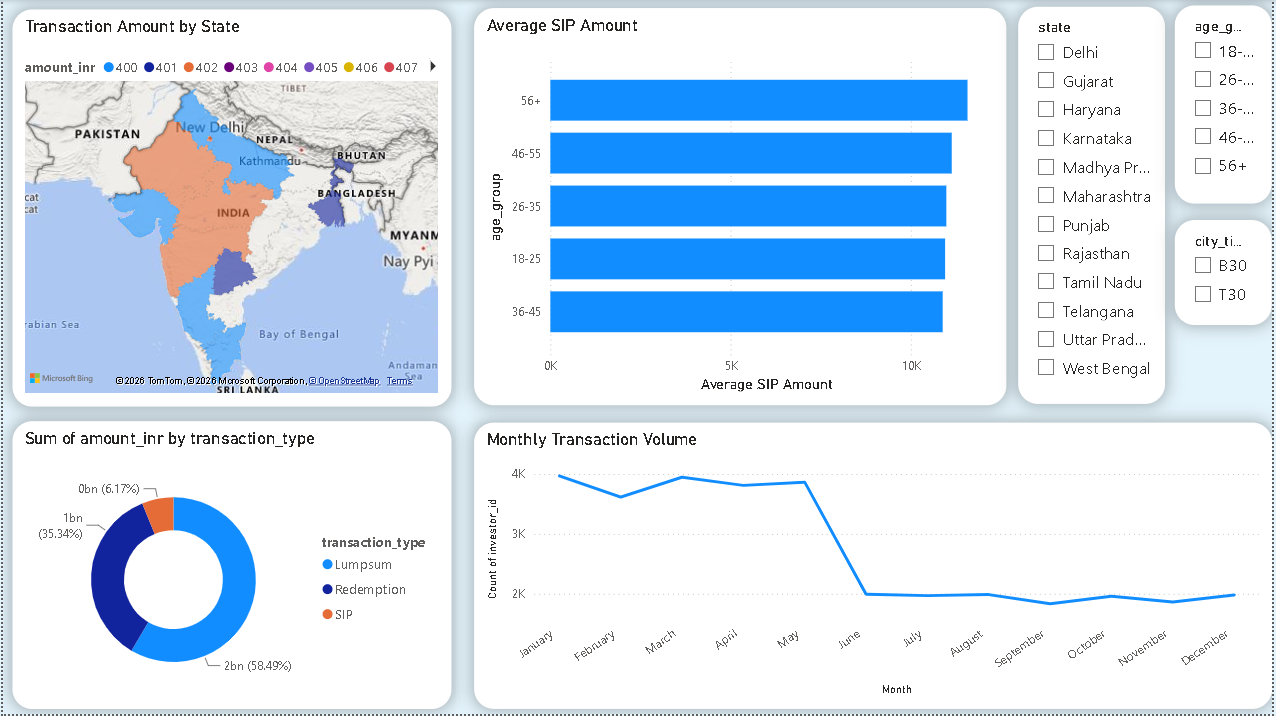

The dashboard page shown, as its layout file describes it:
{"tool":"powerbi","page":{"name":"Investor Analytics","canvas":[1280,720],"ordinal":2},"visuals":[{"type":"filledMap","title":"Transaction Amount by State","fields":{"Category":["clean_transactions.state"],"Series":["clean_transactions.amount_inr"]},"box":[9.5,9.5,442.7,400.5],"z":0},{"type":"donutChart","fields":{"Category":["08_investor_transactions.transaction_type"],"Y":["Sum(08_investor_transactions.amount_inr)"]},"box":[9.5,425,442.7,290.1],"z":1000},{"type":"clusteredBarChart","title":"Average SIP Amount","fields":{"Category":["08_investor_transactions.age_group"],"Y":["08_investor_transactions.Average SIP Amount"]},"box":[475.4,8.2,536.7,400.5],"z":2000},{"type":"lineChart","title":"Monthly Transaction Volume","fields":{"Category":["08_investor_transactions.transaction_date.Variation.Date Hierarchy.Month"],"Y":["CountNonNull(08_investor_transactions.investor_id)"]},"box":[475,426.4,805,288.8],"z":3000},{"type":"slicer","fields":{"Values":["08_investor_transactions.state"]},"box":[1024.3,6.8,148.5,400.5],"z":4000},{"type":"slicer","fields":{"Values":["08_investor_transactions.age_group"]},"box":[1181.9,5.4,98.1,200.2],"z":5000},{"type":"slicer","fields":{"Values":["08_investor_transactions.city_tier"]},"box":[1181.9,222,98.1,106.2],"z":6000}]}

Visuals, with their boxes in screenshot pixels (x1, y1, x2, y2), scaled from the page's 1280x720 canvas onto the 1276x716 screenshot:
"Transaction Amount by State" filledMap: {"left": 9, "top": 9, "right": 451, "bottom": 408}
donutChart - 08_investor_transactions.transaction_type x Sum(08_investor_transactions.amount_inr): {"left": 9, "top": 423, "right": 451, "bottom": 711}
"Average SIP Amount" clusteredBarChart: {"left": 474, "top": 8, "right": 1009, "bottom": 406}
"Monthly Transaction Volume" lineChart: {"left": 474, "top": 424, "right": 1275, "bottom": 711}
slicer - 08_investor_transactions.state: {"left": 1021, "top": 7, "right": 1169, "bottom": 405}
slicer - 08_investor_transactions.age_group: {"left": 1178, "top": 5, "right": 1275, "bottom": 204}
slicer - 08_investor_transactions.city_tier: {"left": 1178, "top": 221, "right": 1275, "bottom": 326}
